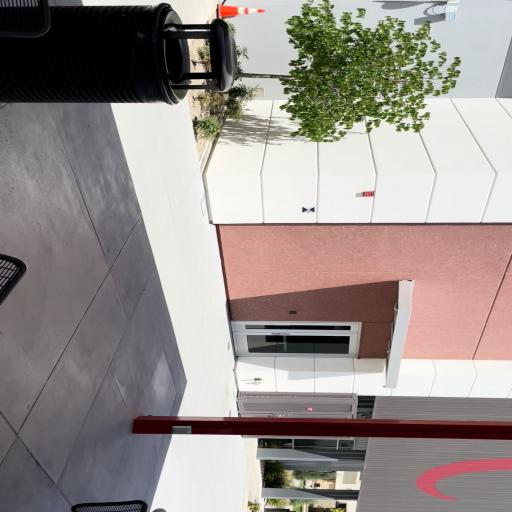target6: (301, 207, 315, 213)
